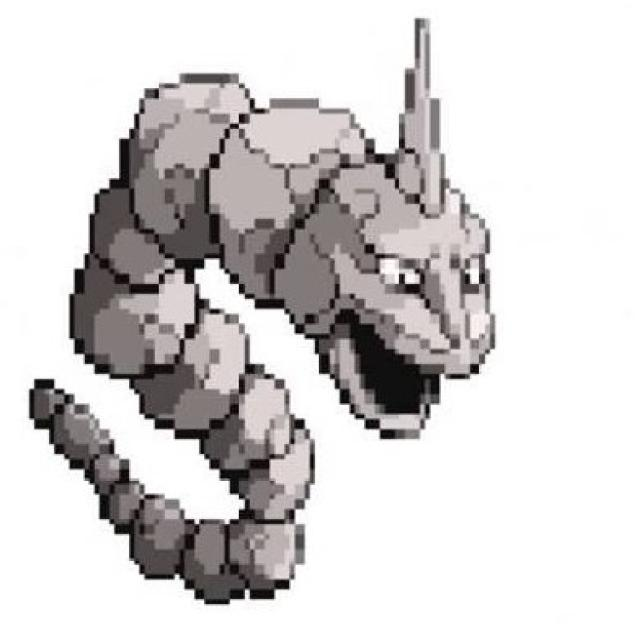Onix: (66, 72, 492, 452)
